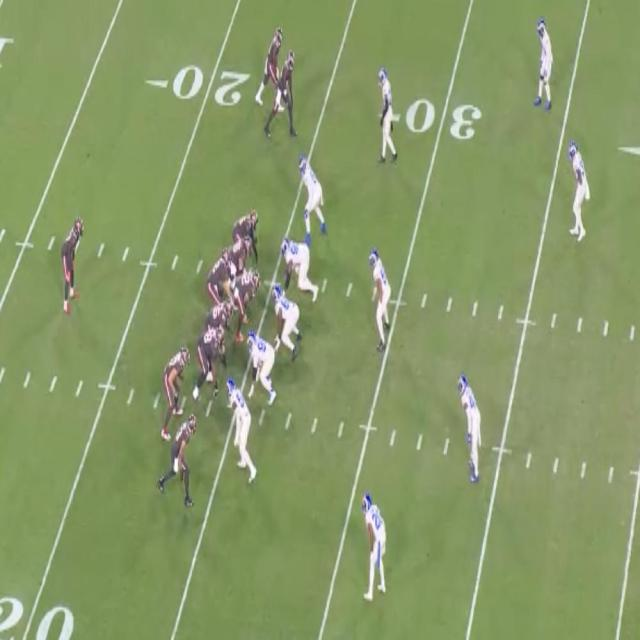center: (235, 267, 260, 331)
db: (457, 377, 484, 483), (360, 490, 386, 592), (568, 142, 588, 236), (378, 67, 397, 162), (536, 16, 554, 110)
lb: (370, 248, 391, 342)
qb: (208, 245, 227, 298)
